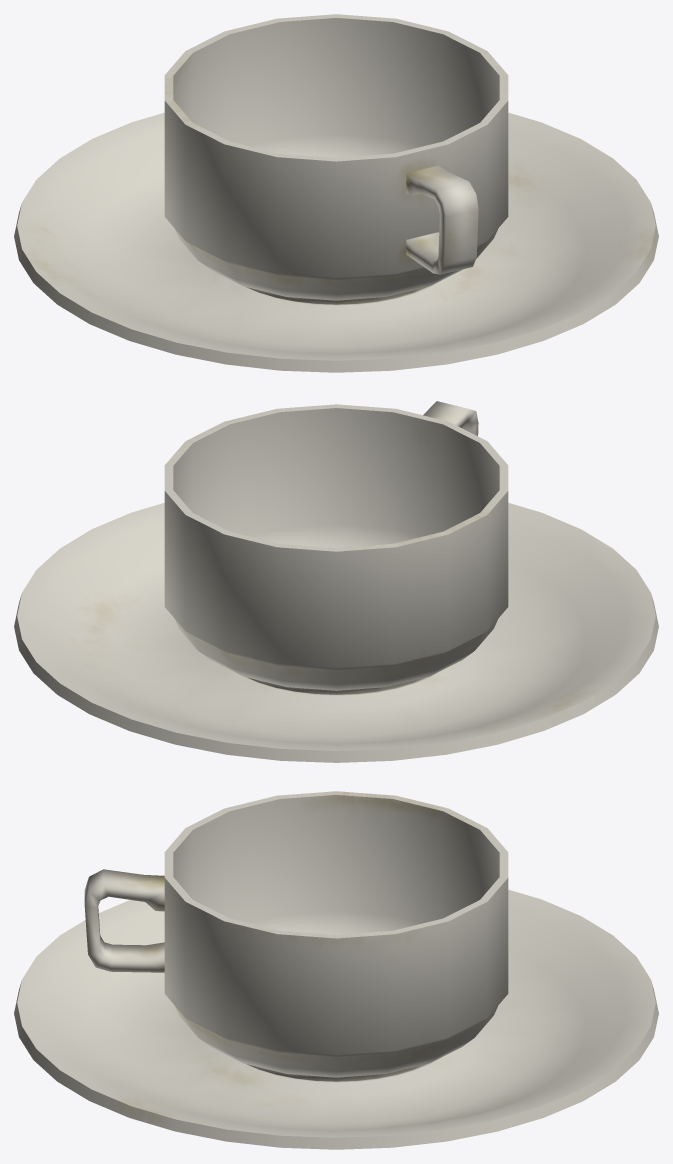
Rendered from Cup02.FBX.
The picture shows the model from 3 angles, top to bottom: view 1: azimuth 30°, elevation 25°; view 2: azimuth 150°, elevation 25°; view 3: azimuth 270°, elevation 25°; orthographic projection.
Parts seen in each view (by area): view 1: Cup02_LOD0; view 2: Cup02_LOD0; view 3: Cup02_LOD0.
Part boxes in pixels (x1=…): Cup02_LOD0: x1=14, y1=14, x2=658, y2=372; Cup02_LOD0: x1=14, y1=401, x2=658, y2=762; Cup02_LOD0: x1=14, y1=791, x2=658, y2=1149.
Size of the model in its own units: 10.24 by 10.24 by 3.34.
